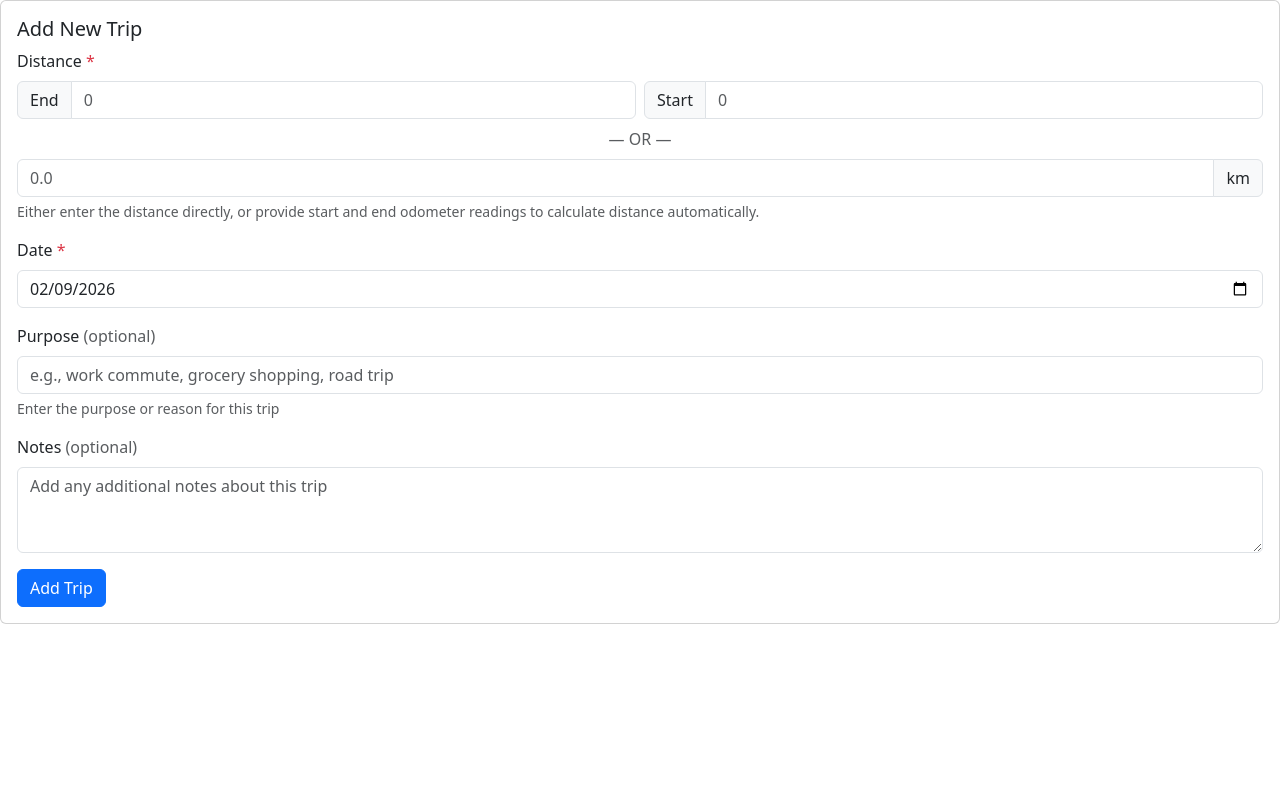
Scenario: TripForm › Create Mode › displays validation error for zero distance
The width and height of the screenshot is (1280, 800).
Note: Fill in required fields
Type "0" into the number field labelled "Distance *" at [616, 178], box top-left (17, 159), bottom-right (1214, 197)
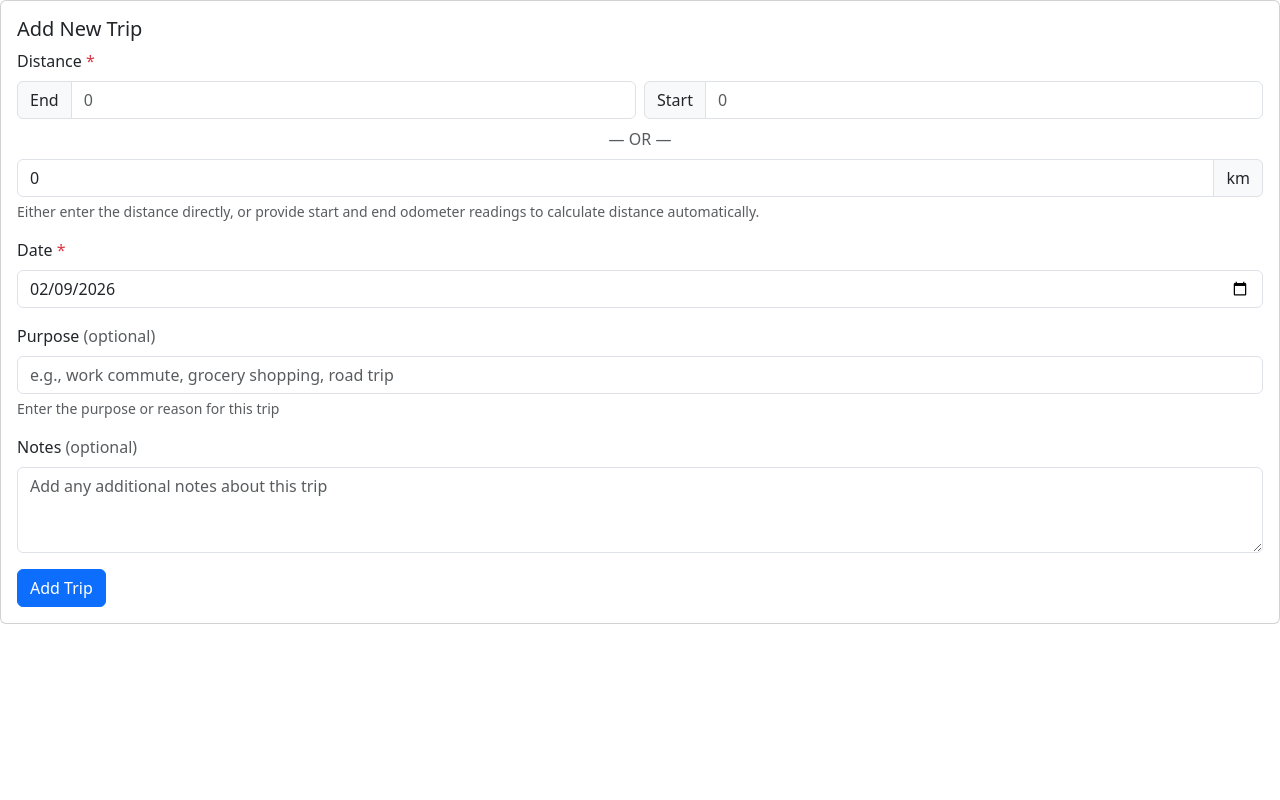
Type "2024-01-15" into the date field labelled "Date *" at [640, 289], box top-left (17, 270), bottom-right (1263, 308)
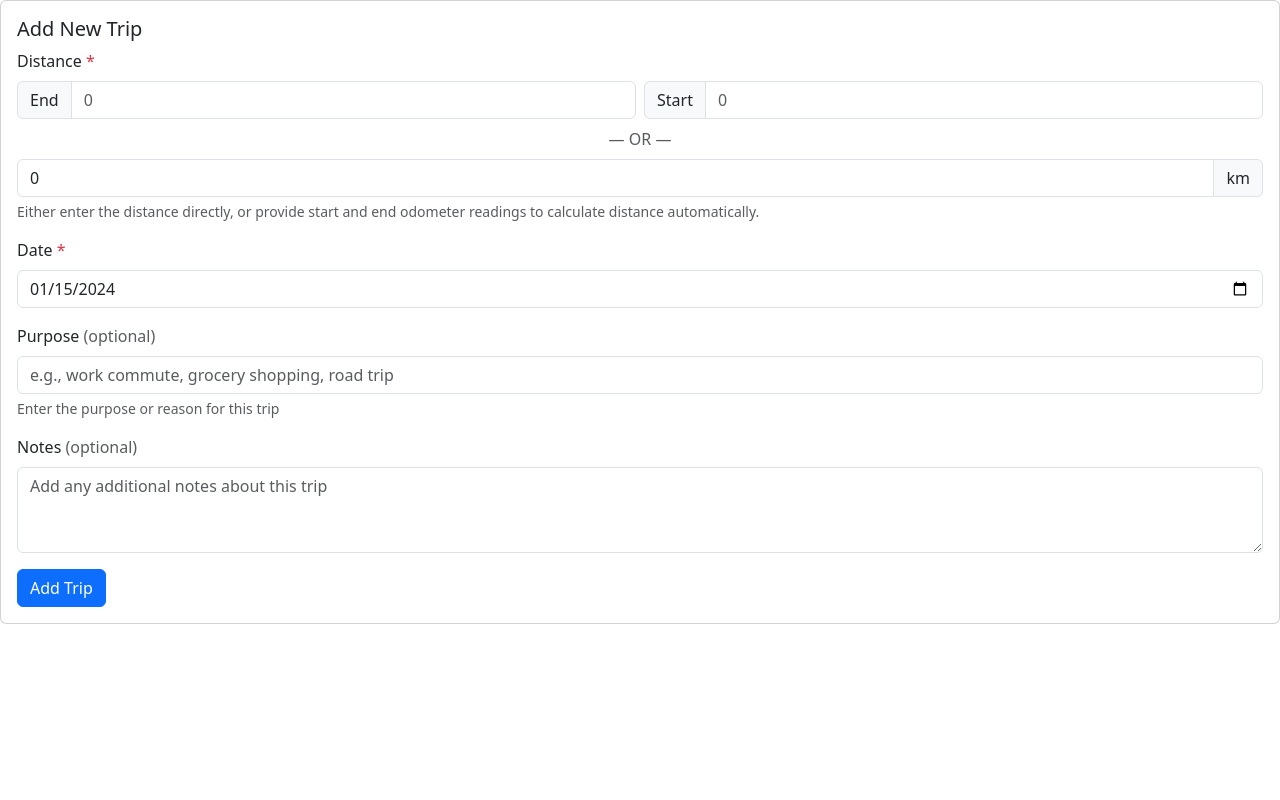
Click the button "Add Trip" at [61, 588], box top-left (17, 569), bottom-right (106, 607)
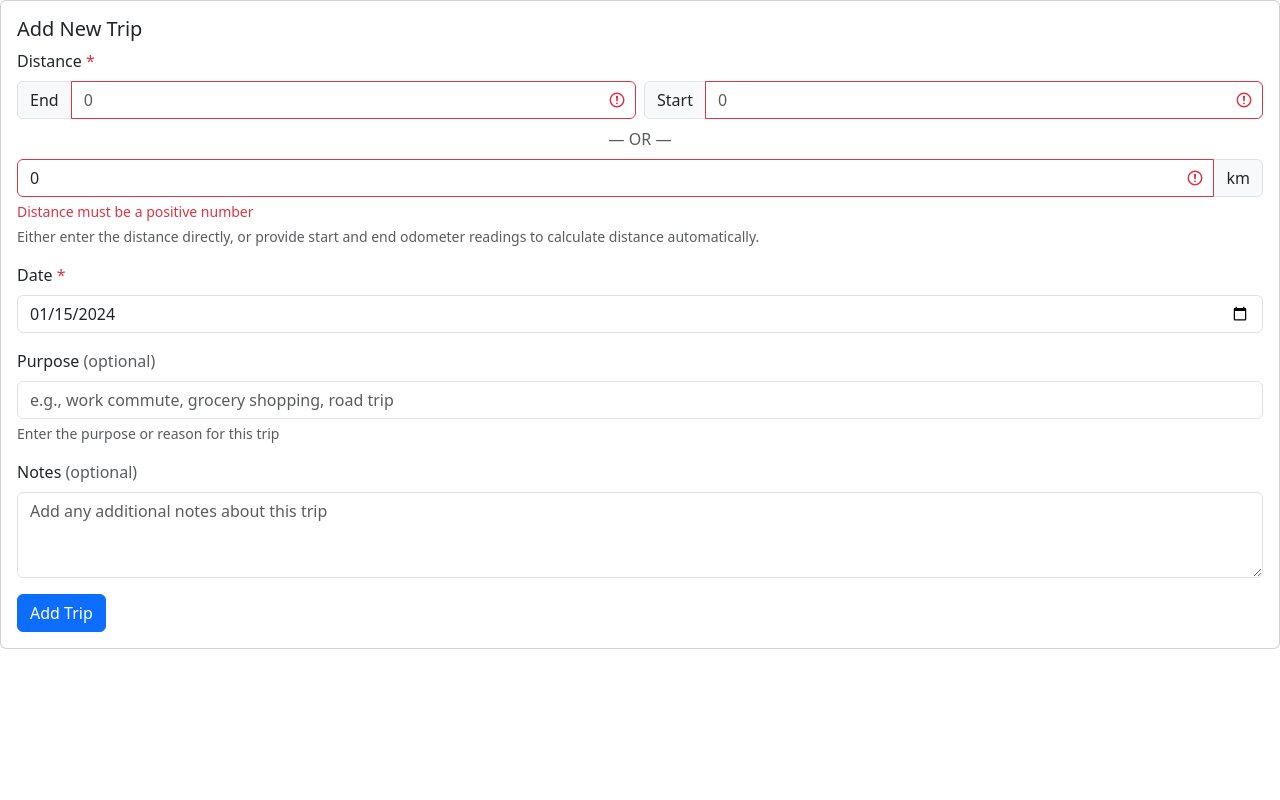
Now the text "Distance must be a positive number" is shown, box top-left (17, 202), bottom-right (254, 221)
